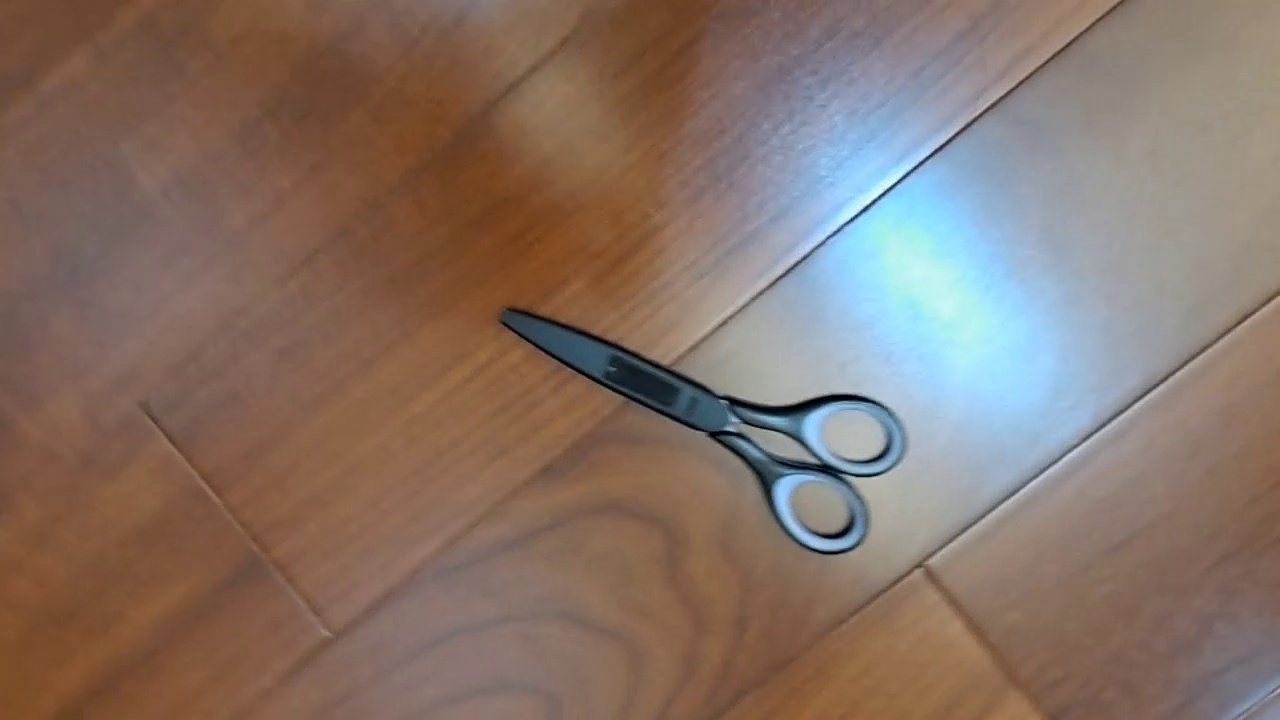scissors: (498, 305, 909, 558)
